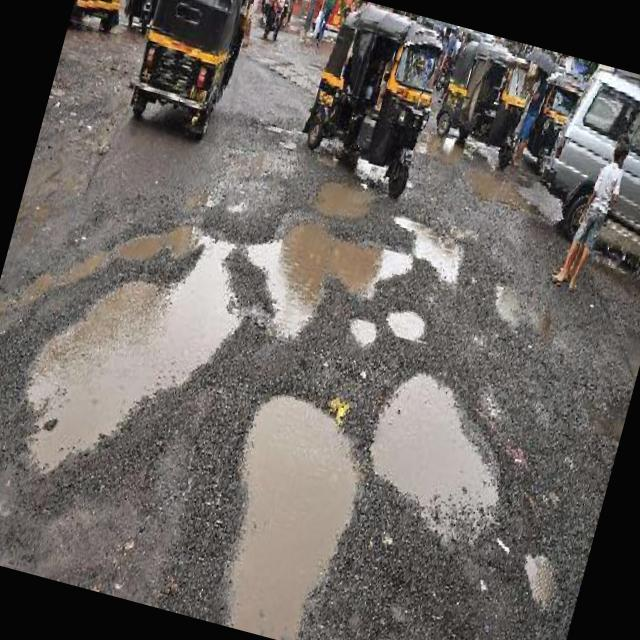Lubang: (27, 238, 239, 471), (230, 395, 357, 640), (371, 372, 498, 546), (247, 222, 412, 336), (394, 216, 462, 283), (314, 181, 372, 218), (526, 554, 555, 607), (387, 314, 425, 340), (350, 322, 374, 345)
